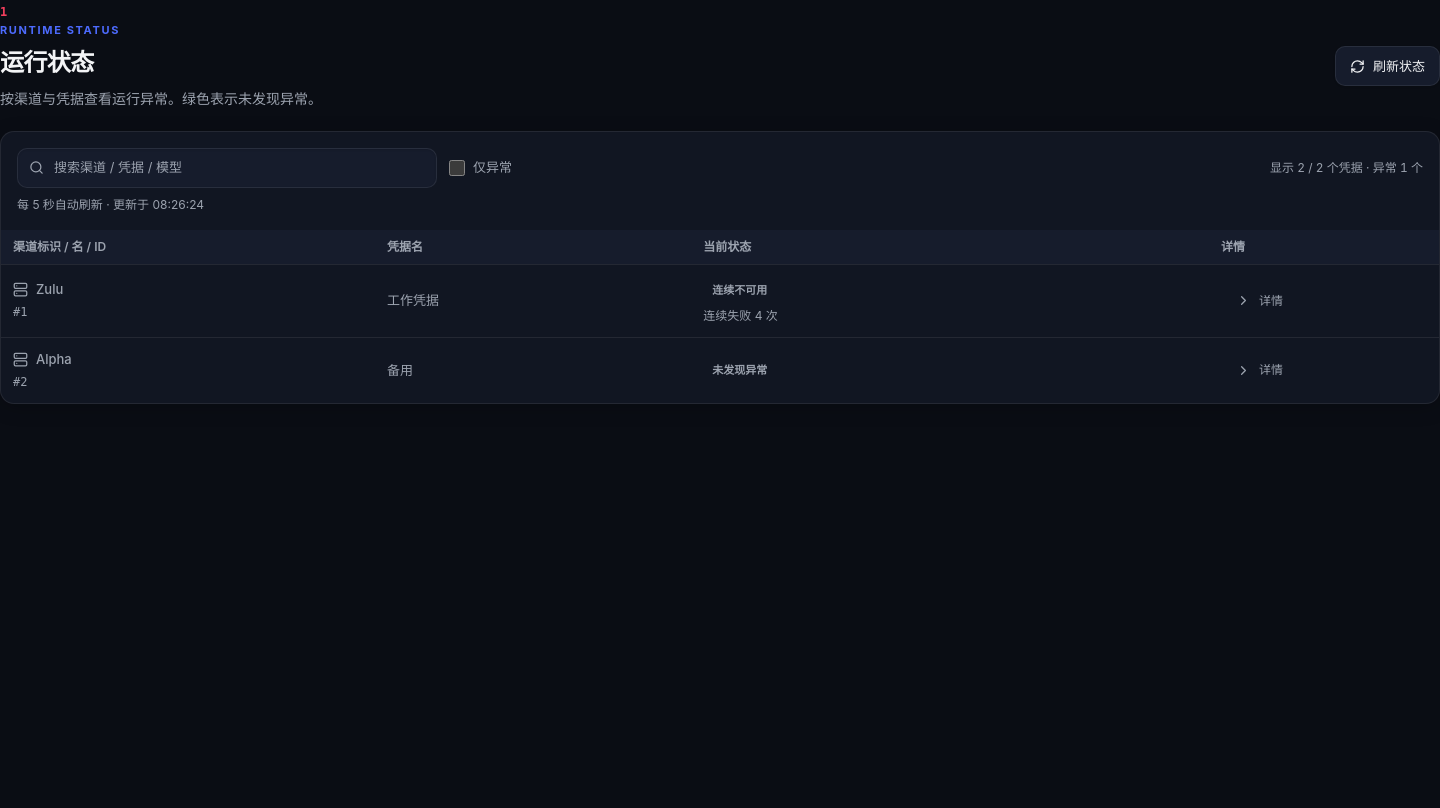
Scenario: runtime status › cancels safely and retains red state and expanded detail after a failed reset
The width and height of the screenshot is (1440, 808).
Click the button with aria-label "展开 Zulu / 工作凭据 详情". click: (1259, 300)
box: [1221,282,1298,318]
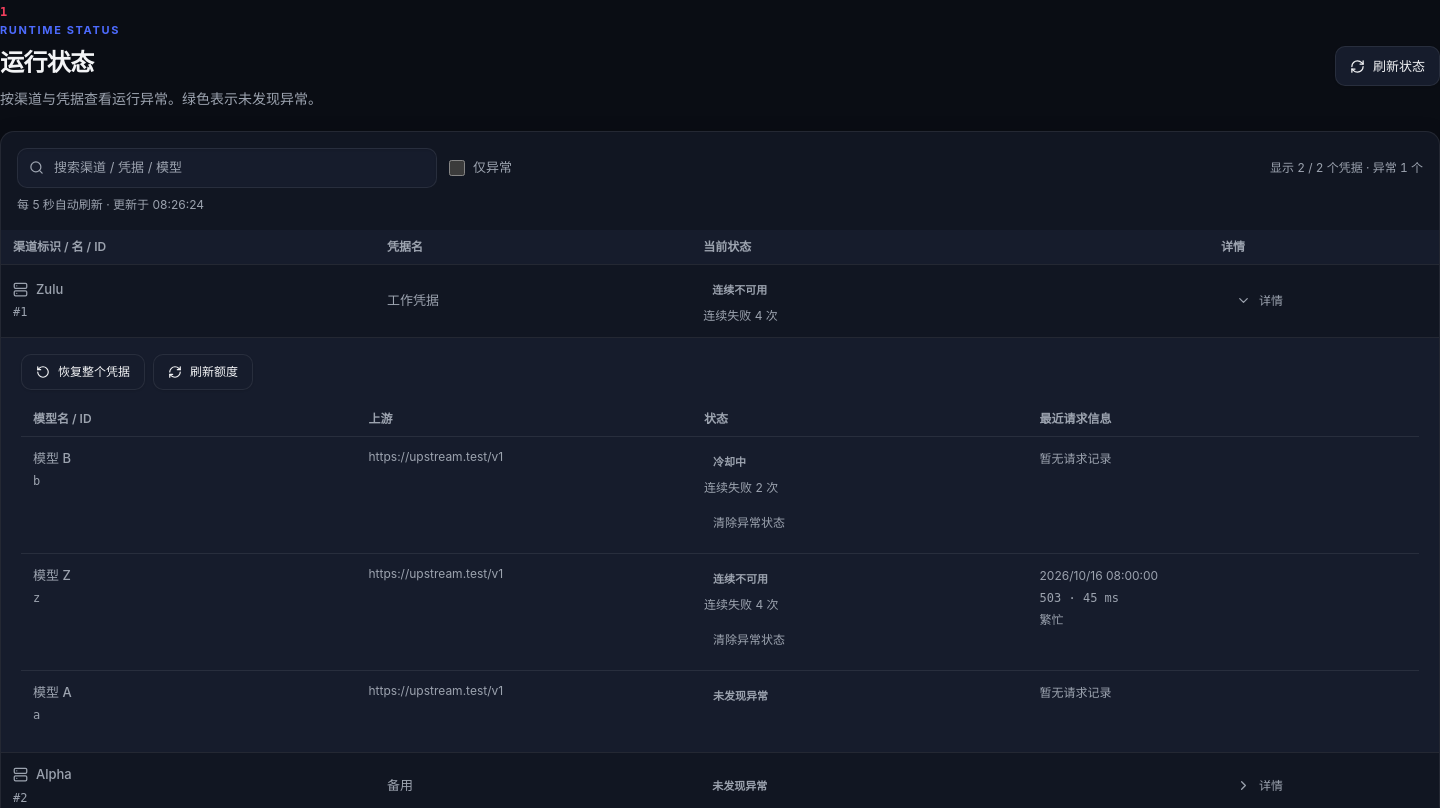
Click the button "恢复整个凭据". click: (83, 372)
box: [21,354,145,390]
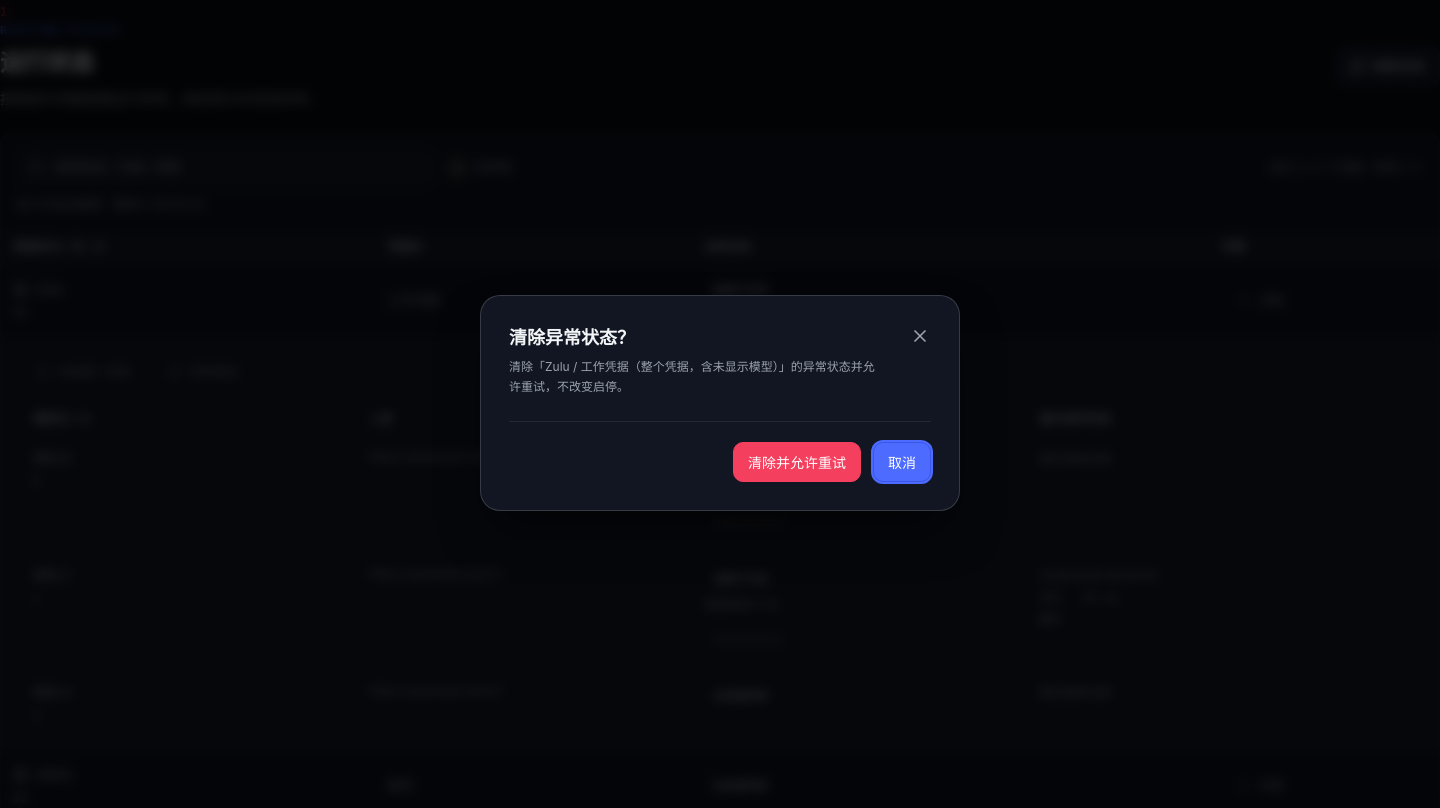
Now the text "清除「Zulu / 工作凭据（整个凭据，含未显示模型）」的异常状态并允许重试，不改变启停。" is shown, box [509,357,885,397]
Click the button "取消". click: (902, 462)
box: [873,442,931,482]
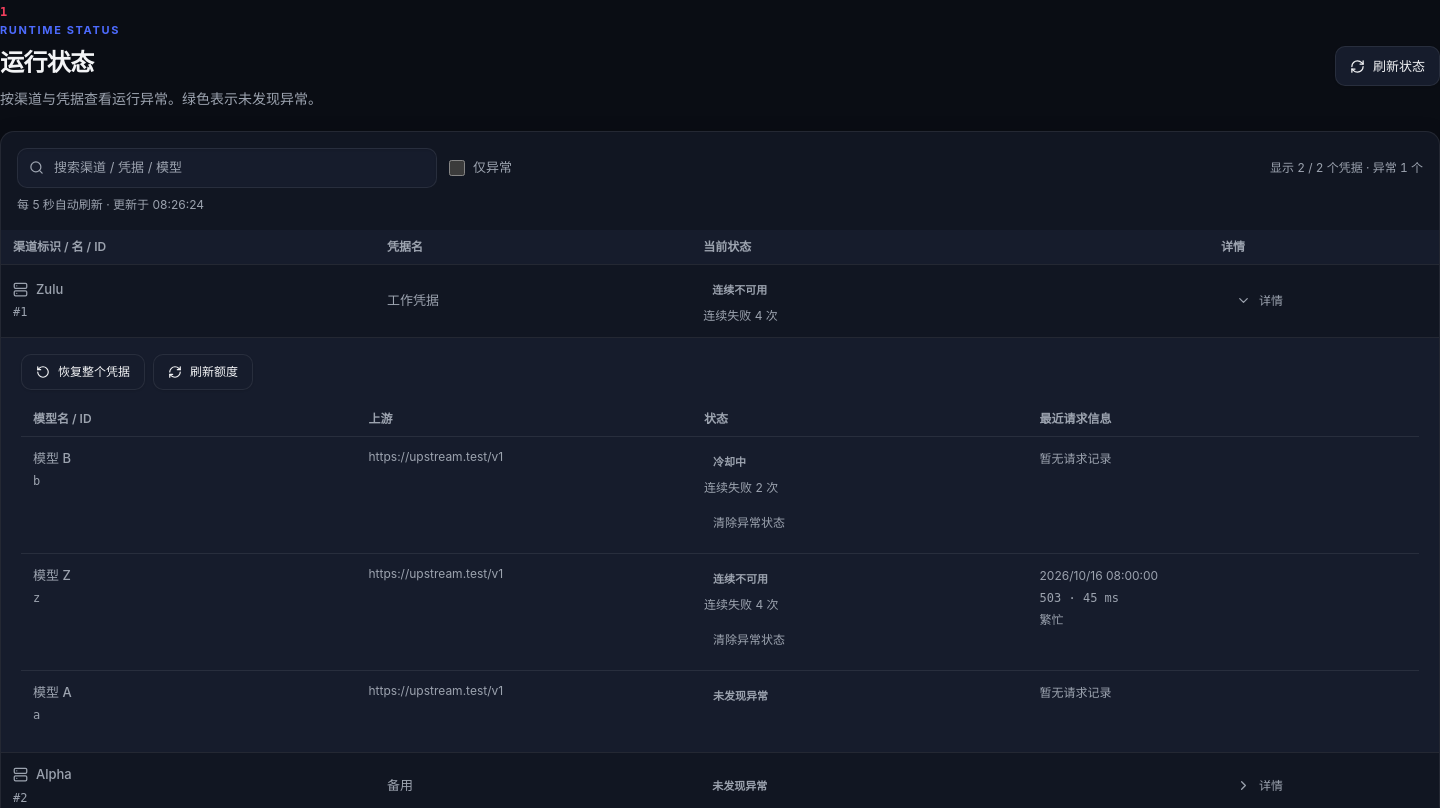
Now the button "恢复整个凭据" is enabled, box [21,354,145,390]
Click the button with aria-label "恢复模型 z". click: (749, 640)
box: [704,622,794,658]
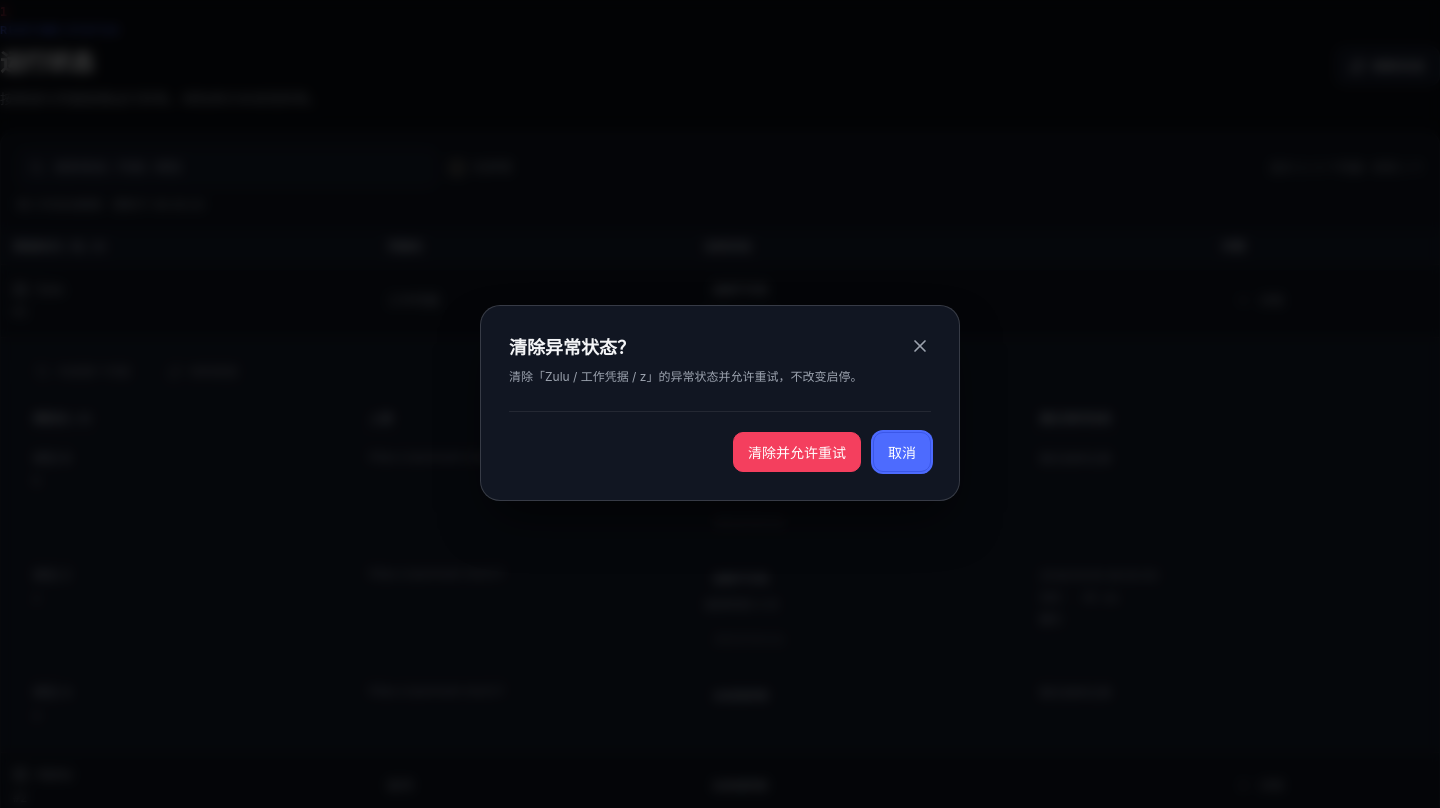
Click the button "清除并允许重试". click: (797, 452)
box: [733,432,861,472]
(page scrolled)
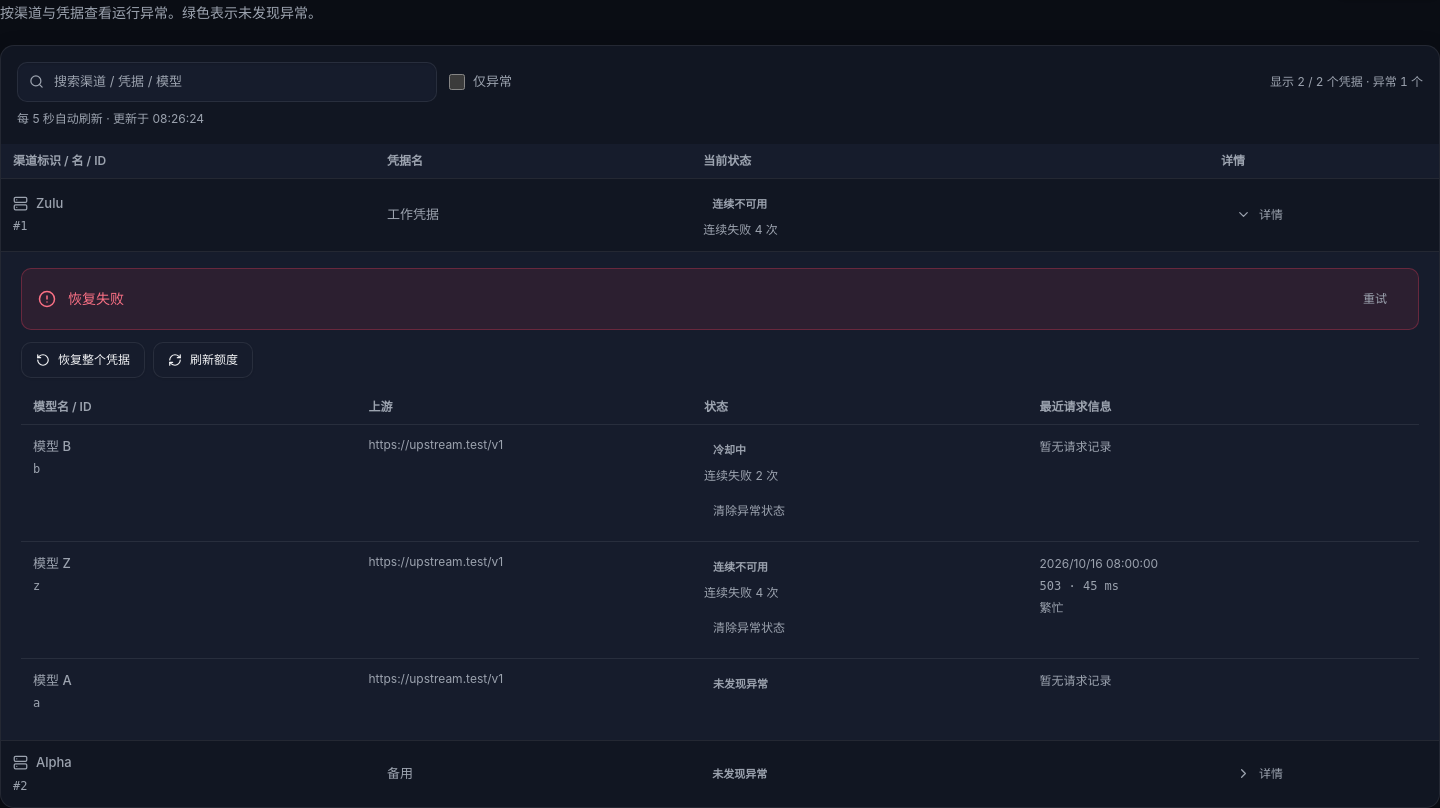
Now the table named "Zulu / 工作凭据 模型状态" is shown, box [21,390,1419,724]
Now the text "恢复失败" is shown, box [68,290,124,307]
